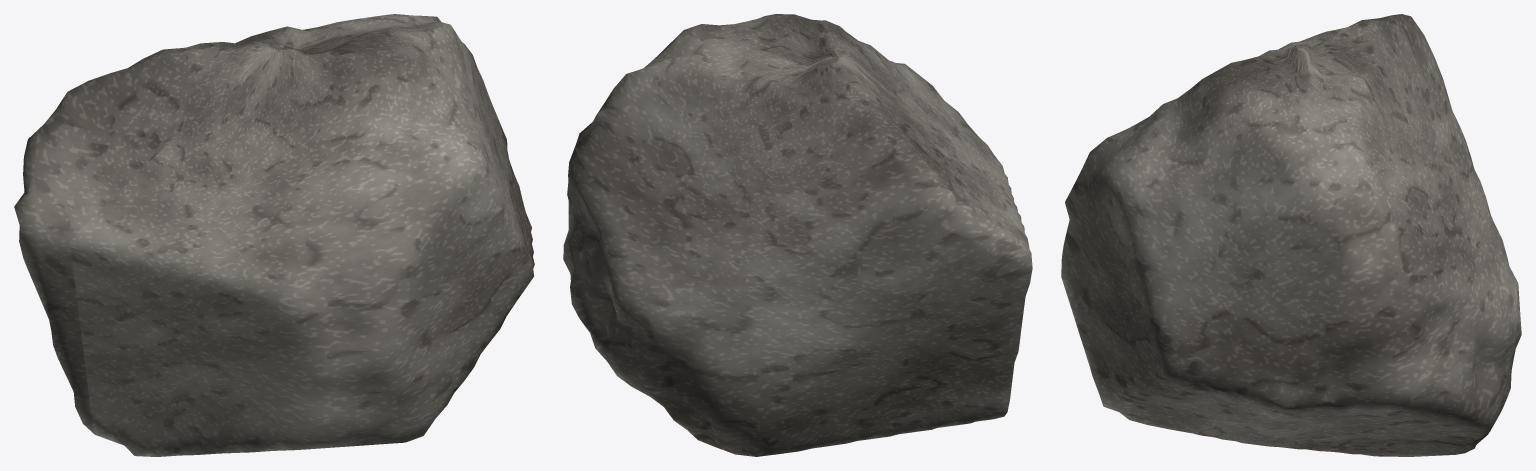
Rendered from PZ_R07_Fractured_Outcrop_Granite.glb.
3 views of the same model, side by side, from view 1: azimuth 30°, elevation 25°; view 2: azimuth 150°, elevation 25°; view 3: azimuth 270°, elevation 25° (orthographic). The views are drawn at different scales.
Parts seen in each view (by area): view 1: RENDER_R07_Fractured_Outcrop_Granite; view 2: RENDER_R07_Fractured_Outcrop_Granite; view 3: RENDER_R07_Fractured_Outcrop_Granite.
Boxes of the visible parts, x1,y1,x2,y2 form: RENDER_R07_Fractured_Outcrop_Granite: (14,14,534,456); RENDER_R07_Fractured_Outcrop_Granite: (563,14,1032,456); RENDER_R07_Fractured_Outcrop_Granite: (1061,14,1521,456).
Bounding box in the file's own units: 2.4 × 1.76 × 1.93.
1 material, 1 textured.
